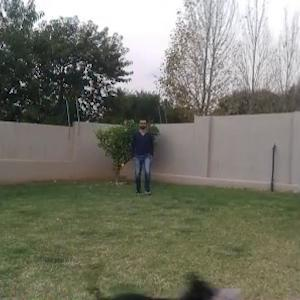follow: (131, 114, 153, 203)
